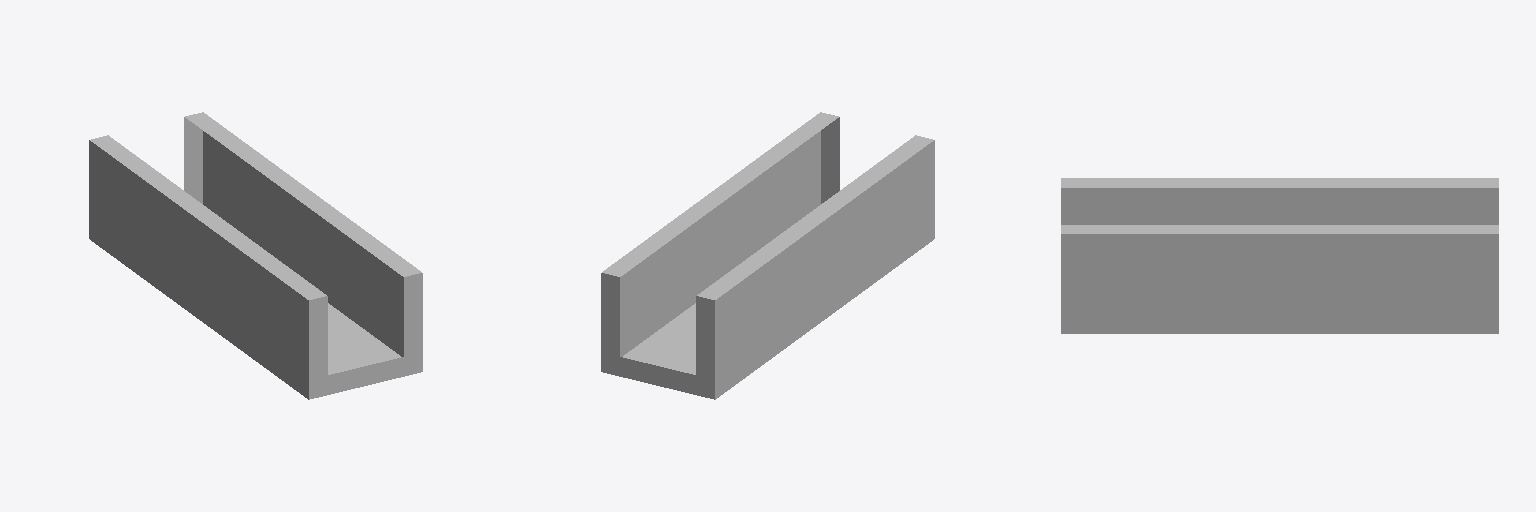
The model's file is tunnel-shell.obj.
3 views of the same model, side by side, from view 1: azimuth 30°, elevation 25°; view 2: azimuth 150°, elevation 25°; view 3: azimuth 270°, elevation 25° (orthographic).
Visible parts, largest first — view 1: Cube_Cube.002; view 2: Cube_Cube.002; view 3: Cube_Cube.002.
Boxes of the visible parts, x1,y1,x2,y2 form: Cube_Cube.002: [89, 112, 422, 399]; Cube_Cube.002: [601, 112, 934, 399]; Cube_Cube.002: [1061, 178, 1498, 333].
Bounding box in the file's own units: 3 × 2.5 × 10.